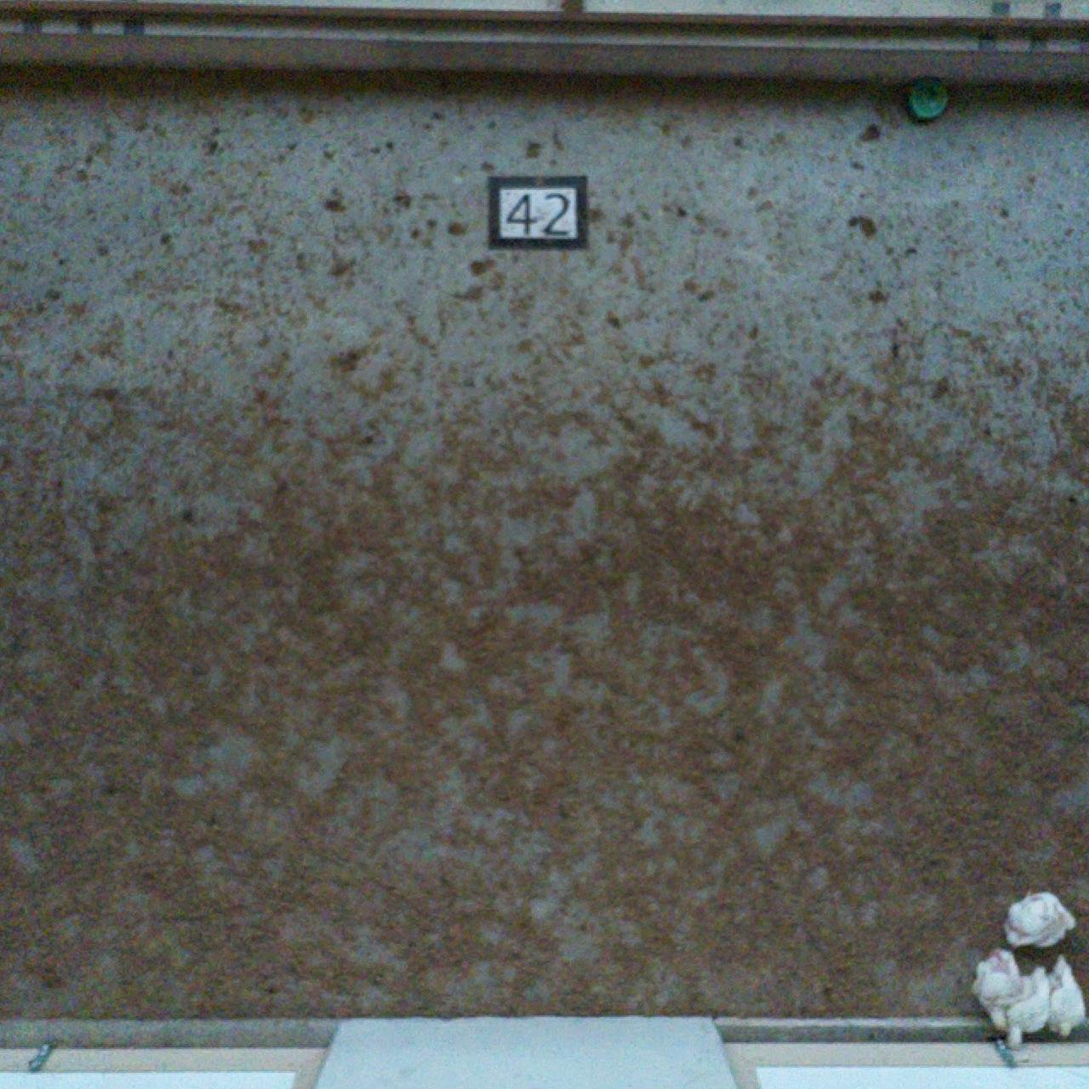chicken: (1006, 963, 1057, 1046), (1006, 890, 1077, 944), (977, 945, 1020, 1025), (1050, 957, 1082, 1034)
